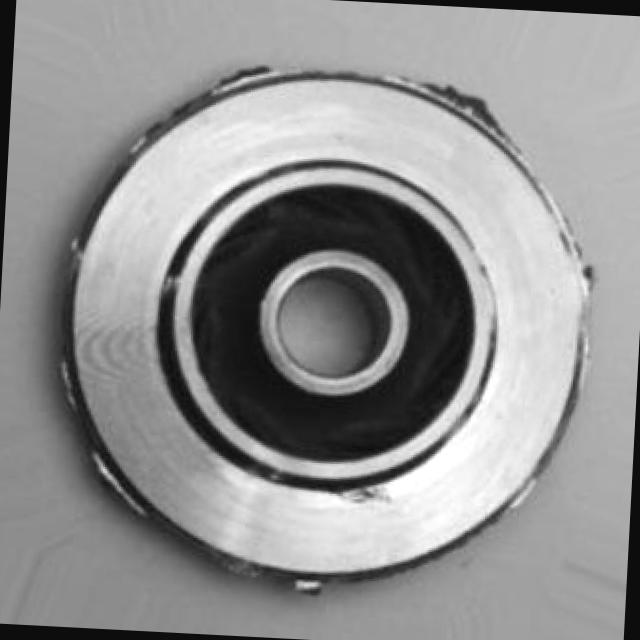Defect: (438, 78, 522, 140)
